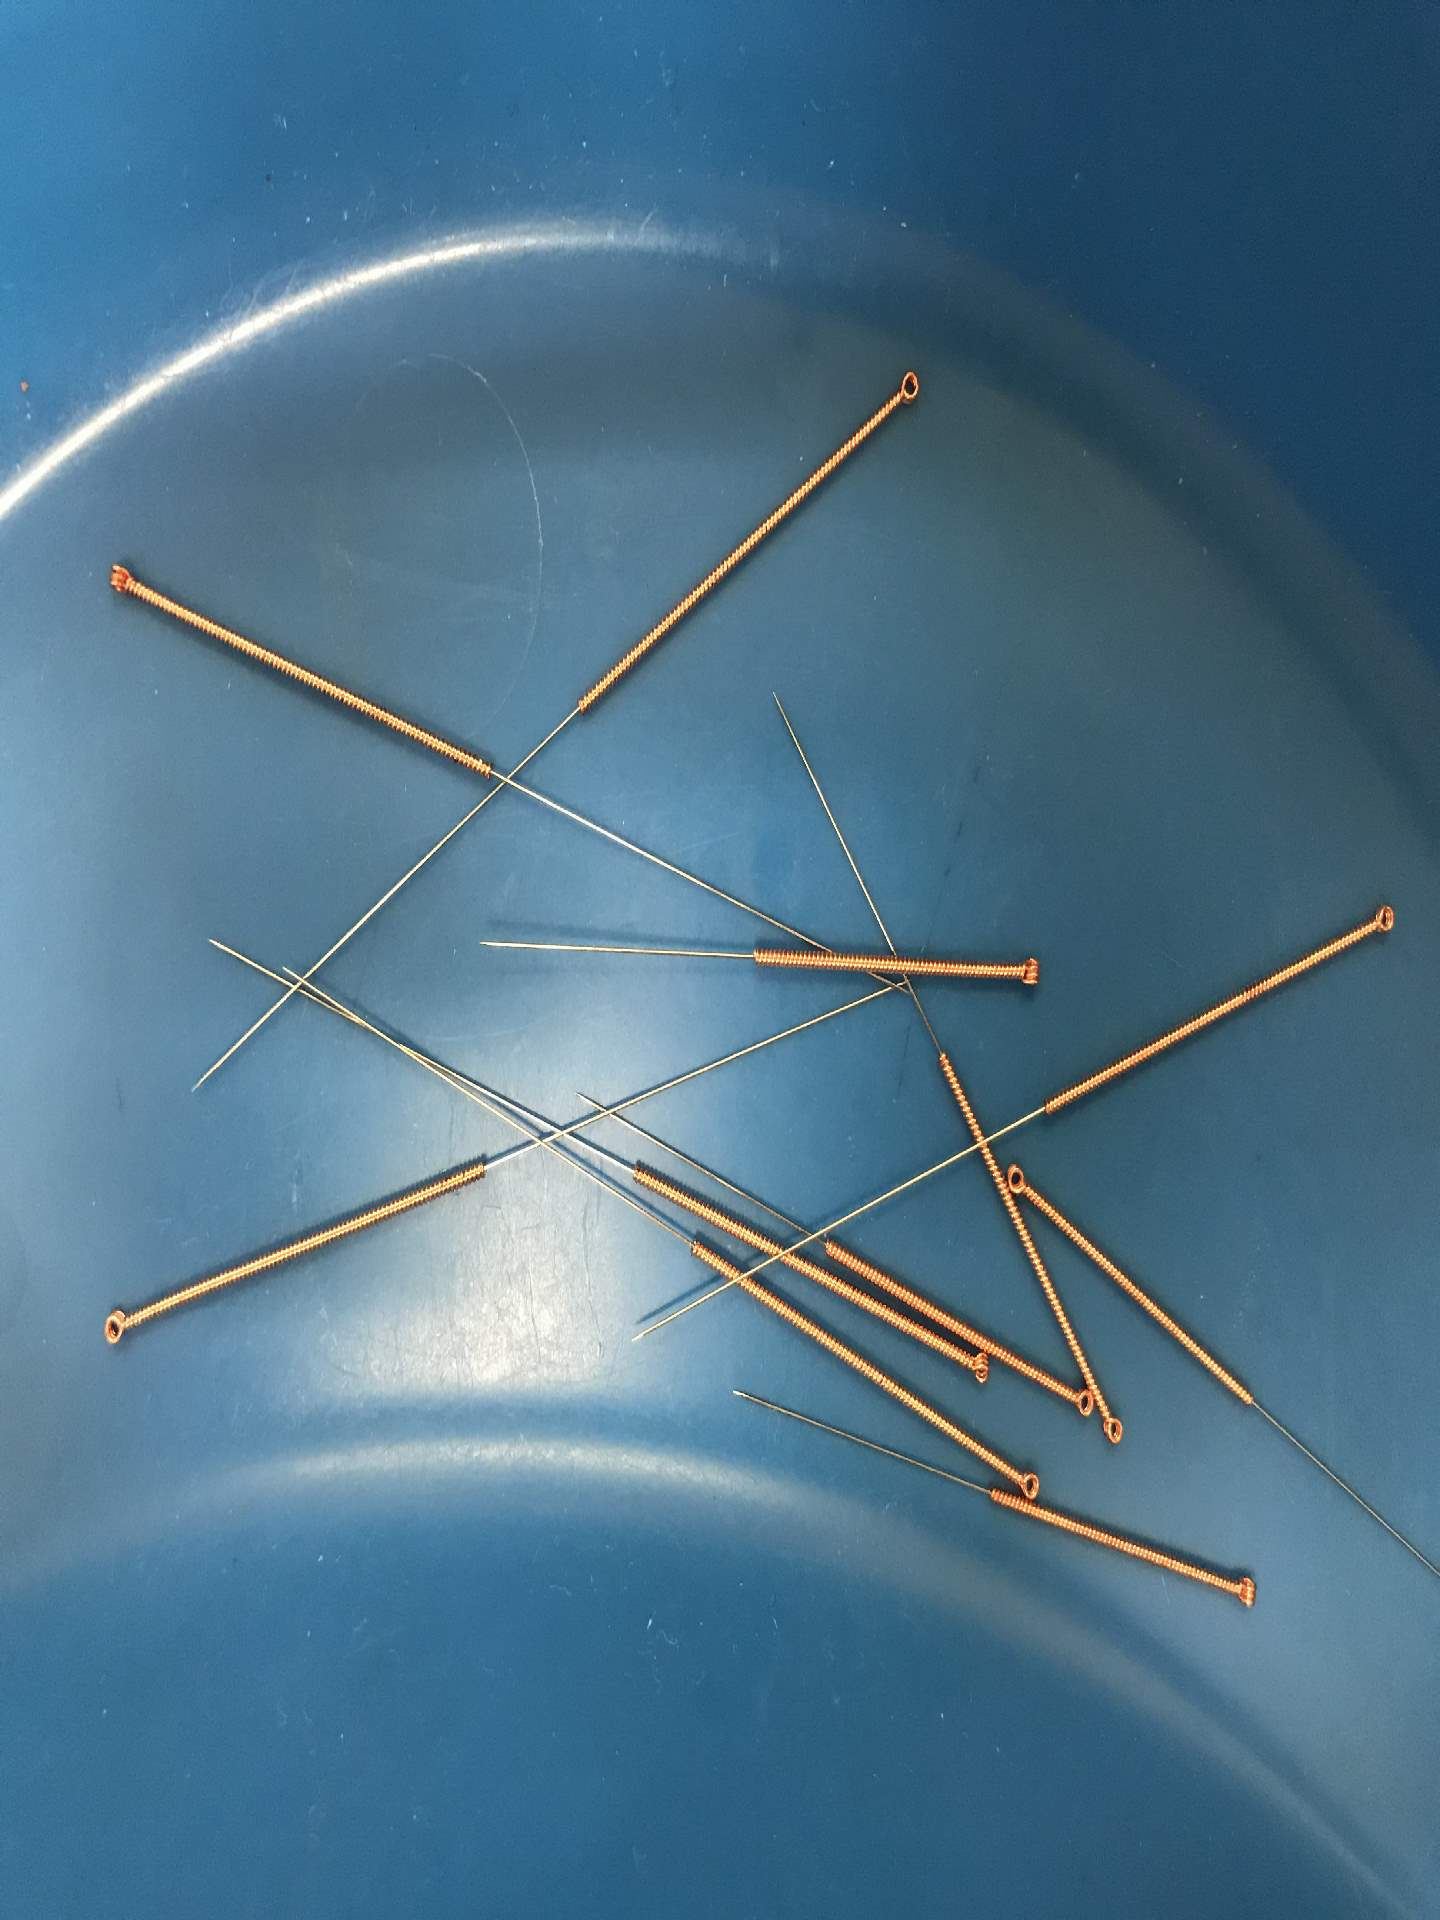needle: (89, 550, 148, 611), (995, 943, 1053, 999), (88, 1297, 144, 1355), (1349, 892, 1411, 943), (880, 360, 932, 417), (1221, 1562, 1268, 1615), (951, 1349, 995, 1392), (1094, 1407, 1131, 1453), (1003, 1158, 1042, 1200), (1012, 1460, 1048, 1504), (1063, 1383, 1097, 1423)
